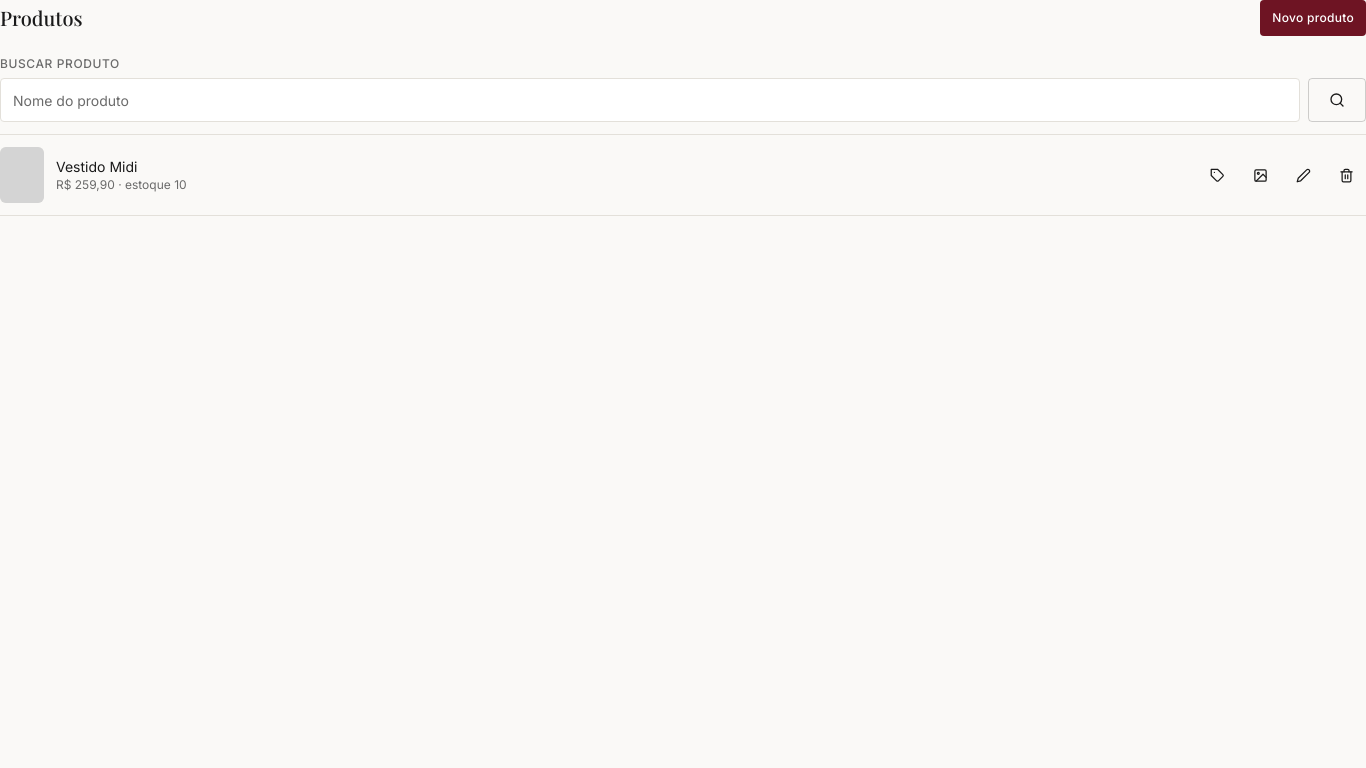
Test: AdminProdutos › edita um produto e muda a categoria dele
Expected: the text "Vestido Midi" is shown, [56,158,137,175]
Click the button named "Editar".
click(1304, 175)  # box [1284,157,1323,193]
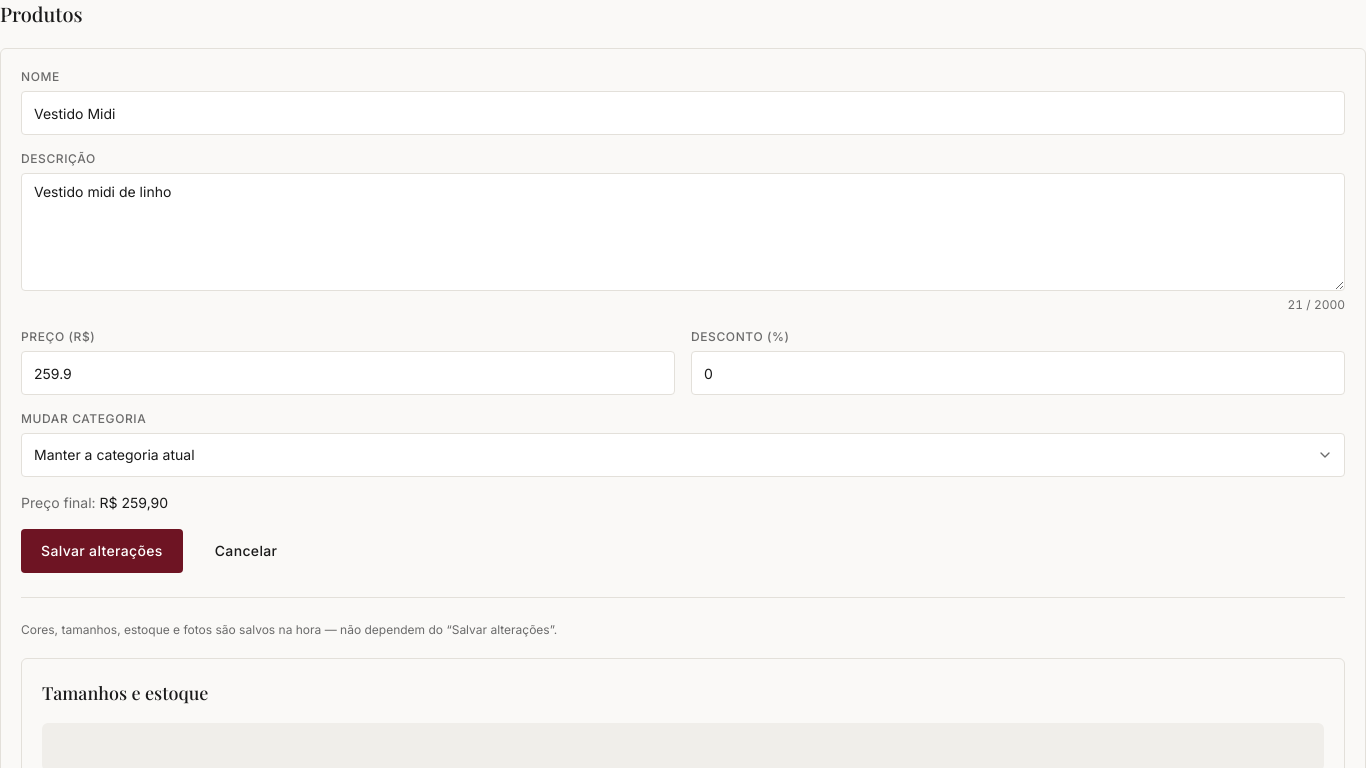
Expected: the dropdown labelled "Mudar categoria" shows "Manter a categoria atual"
Select "Vestidos" in the dropdown labelled "Mudar categoria" at {"x": 683, "y": 455}, box [21,433,1345,477]
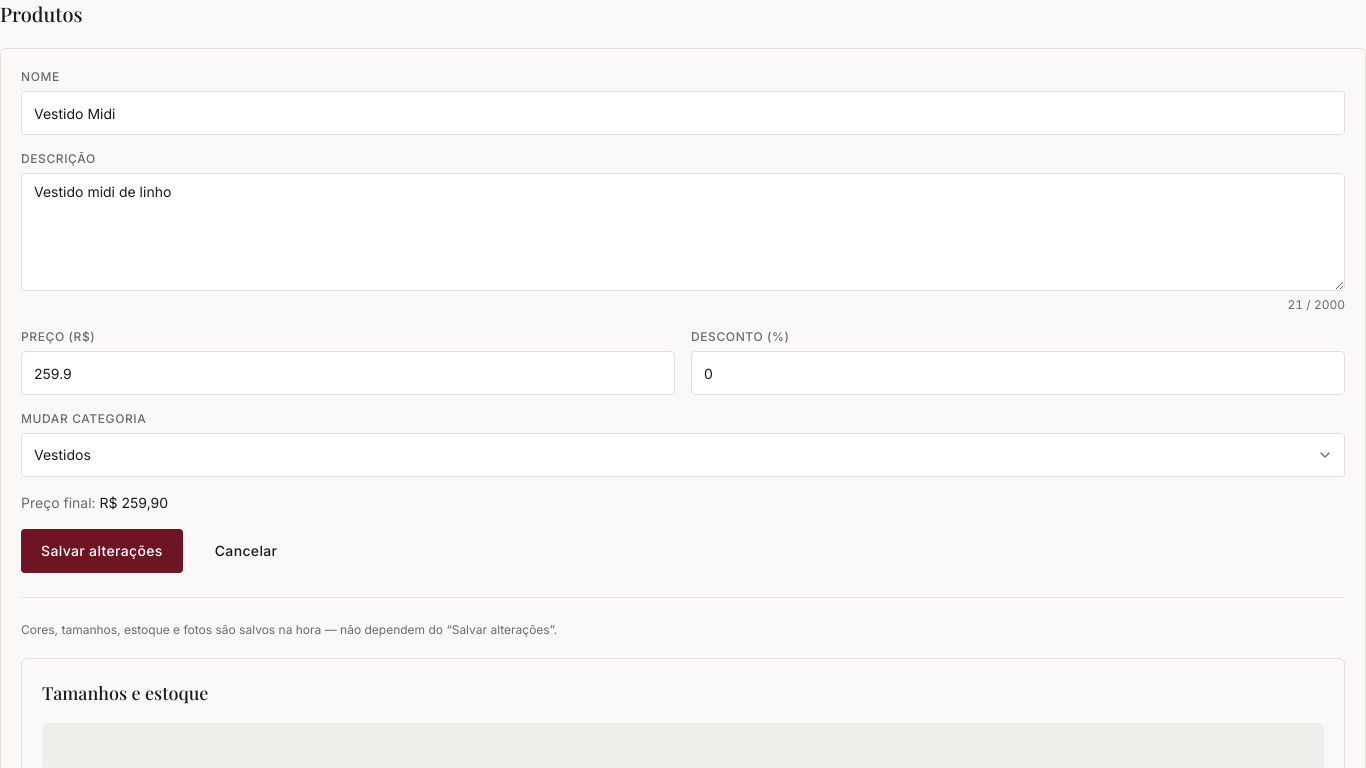
Click the button "Salvar alterações".
click(102, 551)  # box [21,529,183,573]
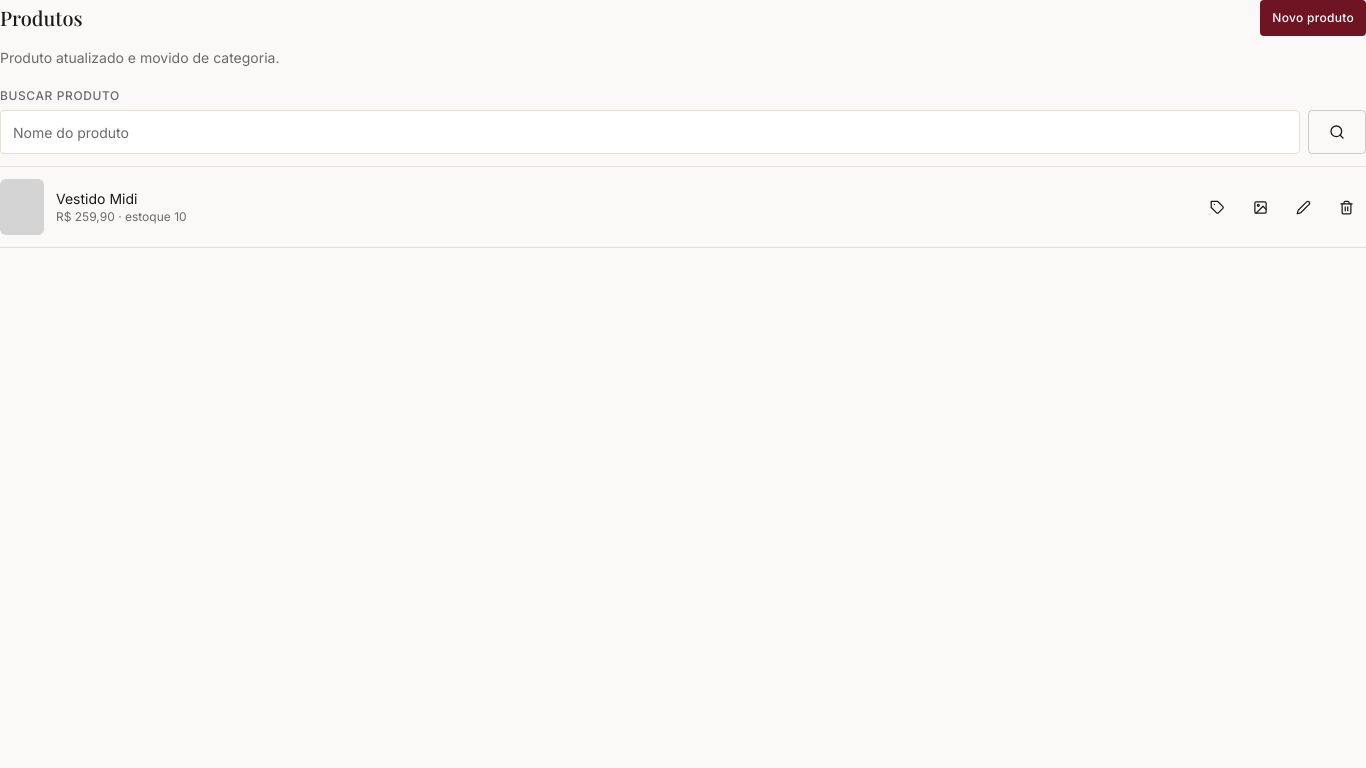
Expected: the text "Produto atualizado e movido de categoria." is shown, [0,49,280,66]
